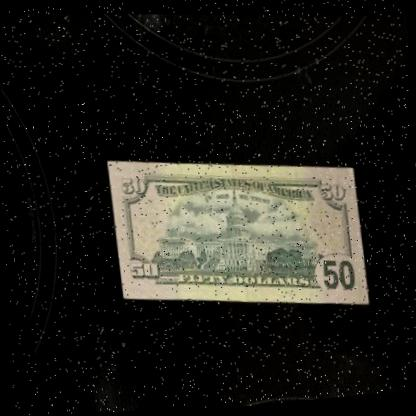fifty-back: (101, 137, 364, 321)
